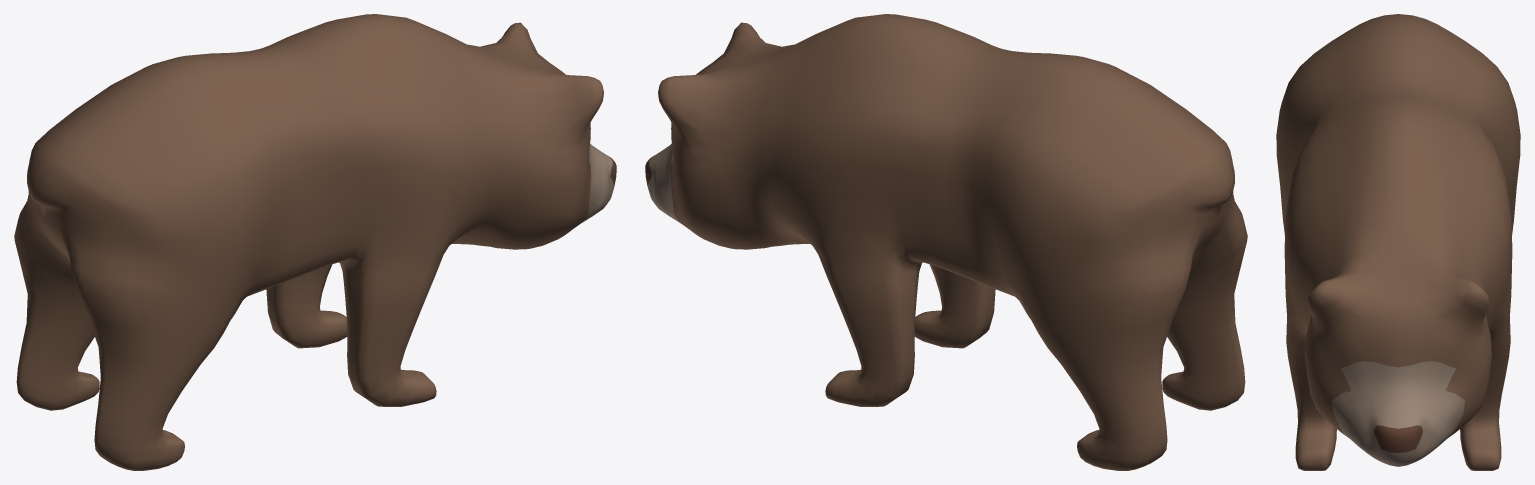
Rendered from bear.fbx.
The picture shows the model from 3 angles, left to right: view 1: azimuth 30°, elevation 25°; view 2: azimuth 150°, elevation 25°; view 3: azimuth 270°, elevation 25°; orthographic projection.
Visible parts, largest first — view 1: bear; view 2: bear; view 3: bear.
Boxes of the visible parts, left/top/right/bottom form: bear: left=14, top=14, right=616, bottom=470; bear: left=645, top=14, right=1247, bottom=470; bear: left=1276, top=14, right=1520, bottom=470.
Size of the model in its own units: 590 by 342 by 215.
